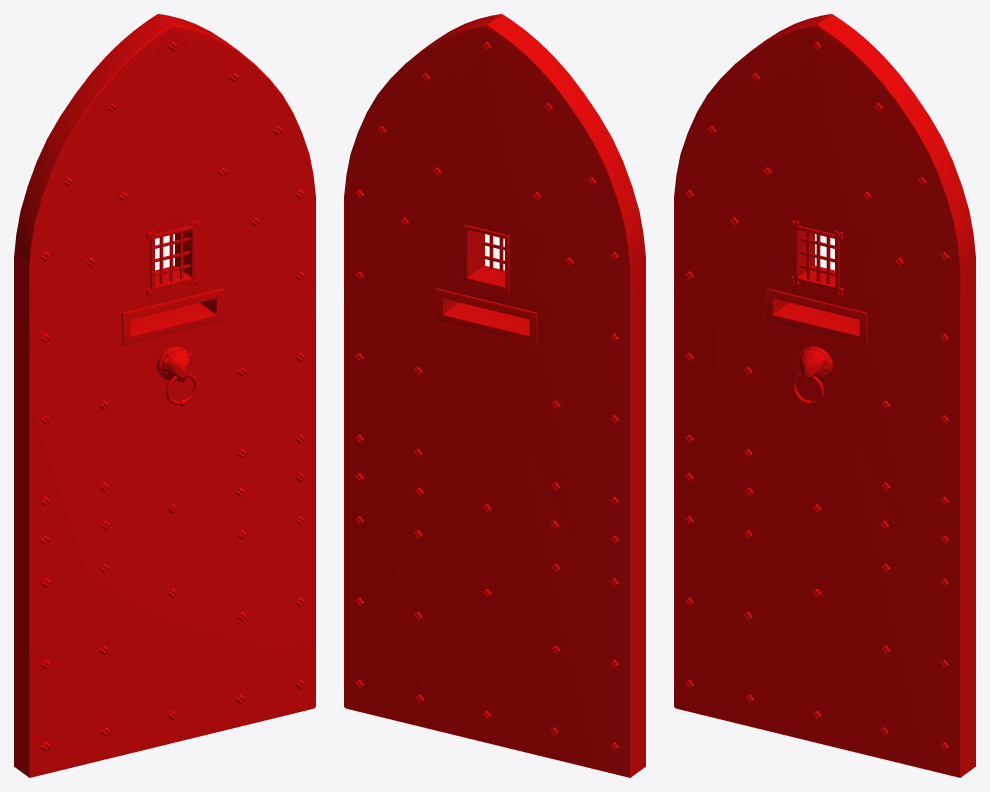
File: Door1Peak1.fbx
The picture shows the model from 3 angles, left to right: view 1: azimuth 30°, elevation 25°; view 2: azimuth 150°, elevation 25°; view 3: azimuth 330°, elevation 25°; orthographic projection.
Parts seen in each view (by area): view 1: Door1Peak1, Door1Peak1_Bolts; view 2: Door1Peak1, Door1Peak1_Bolts; view 3: Door1Peak1, Door1Peak1_Bolts.
Part boxes in pixels (bbox=[...]): Door1Peak1: bbox=[14, 14, 315, 777]; Door1Peak1_Bolts: bbox=[40, 41, 305, 751]; Door1Peak1: bbox=[344, 14, 645, 777]; Door1Peak1_Bolts: bbox=[354, 41, 619, 751]; Door1Peak1: bbox=[674, 14, 975, 777]; Door1Peak1_Bolts: bbox=[684, 41, 949, 751].
Size of the model in its own units: 111 by 264 by 19.53.
